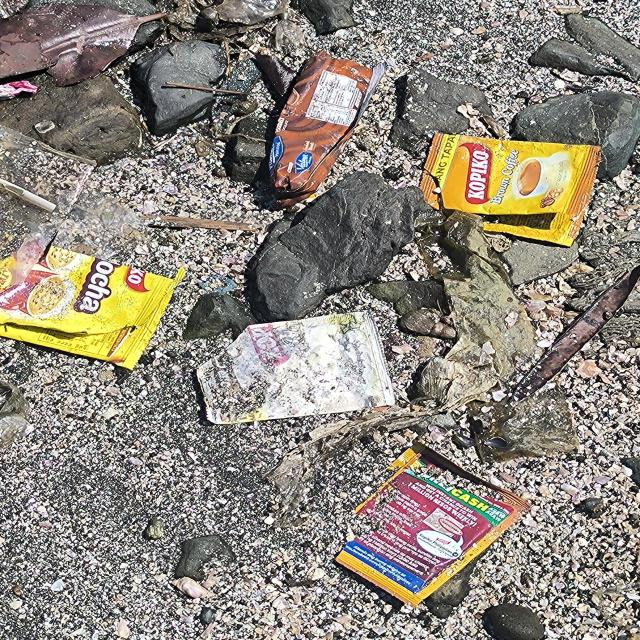plastic_waste: (333, 441, 534, 610), (196, 309, 398, 427), (1, 246, 188, 373), (418, 133, 604, 249), (268, 48, 387, 212)
